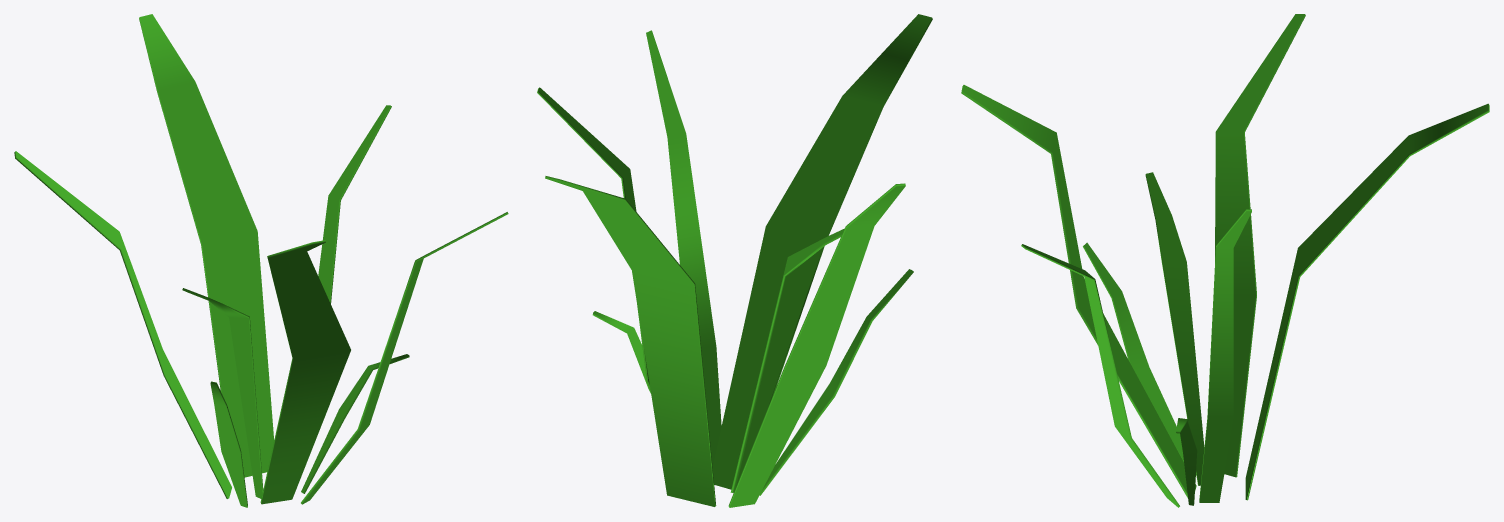
File: Grass_2.obj
3 renders of one model, left to right at view 1: azimuth 30°, elevation 25°; view 2: azimuth 150°, elevation 25°; view 3: azimuth 270°, elevation 25°, orthographic. The views are drawn at different scales.
Visible parts, largest first — view 1: Grass_2; view 2: Grass_2; view 3: Grass_2.
Boxes of the visible parts, x1=… form: Grass_2: x1=14, y1=14, x2=508, y2=507; Grass_2: x1=537, y1=14, x2=932, y2=507; Grass_2: x1=961, y1=14, x2=1489, y2=507.
Bounding box in the file's own units: 25.47 × 25.46 × 30.94.
